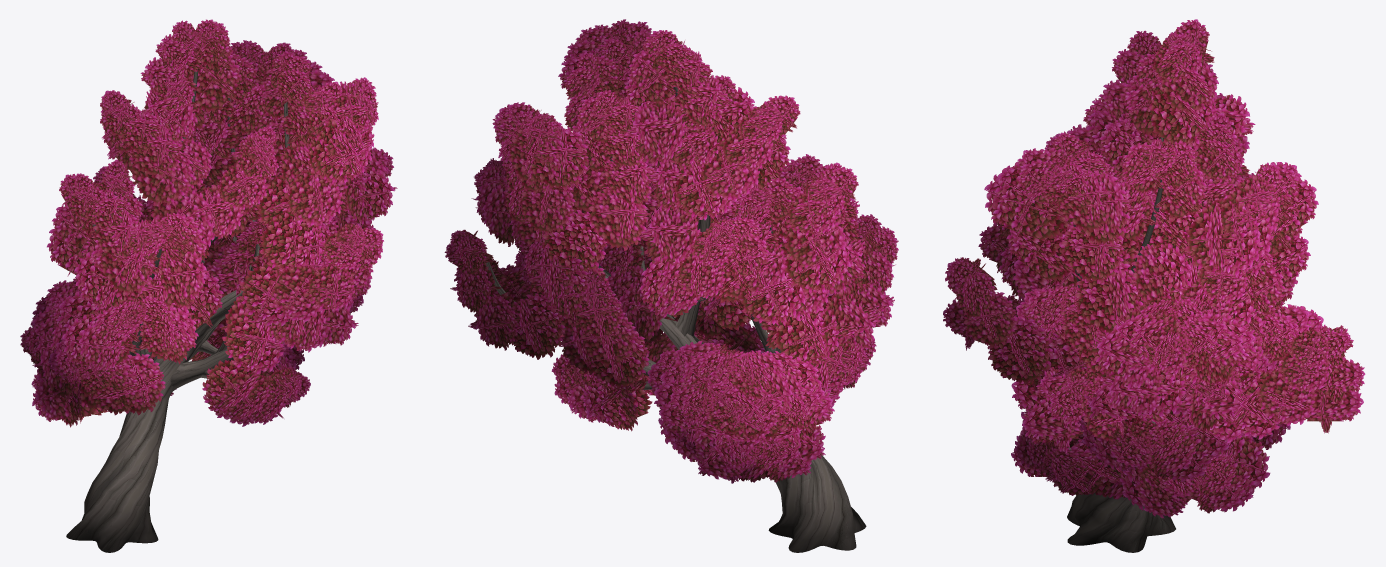
The model's file is TwistedTree_1.gltf.
3 views of the same model, side by side, from view 1: azimuth 30°, elevation 25°; view 2: azimuth 150°, elevation 25°; view 3: azimuth 270°, elevation 25° (orthographic). The views are drawn at different scales.
Parts seen in each view (by area): view 1: TwistedTree_1; view 2: TwistedTree_1; view 3: TwistedTree_1.
Boxes of the visible parts, box(x1,y1,x2,y2) form: TwistedTree_1: box(20, 19, 397, 552); TwistedTree_1: box(444, 19, 898, 552); TwistedTree_1: box(943, 19, 1365, 552).
Size of the model in its own units: 13.52 by 16.73 by 11.55.
2 materials, 2 textured.
